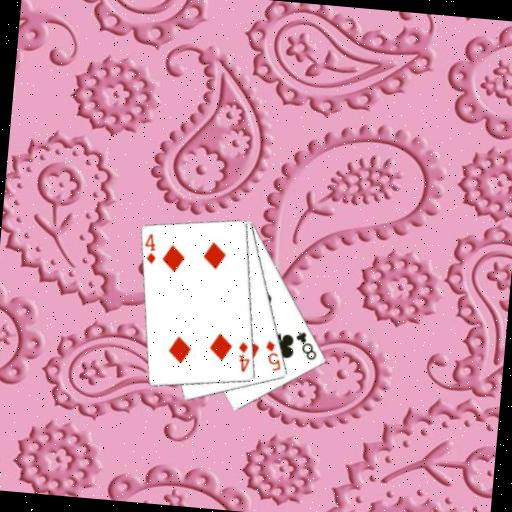4D: (234, 339, 253, 375), (142, 231, 160, 266)
5D: (261, 338, 284, 374)
8C: (291, 328, 320, 363)
